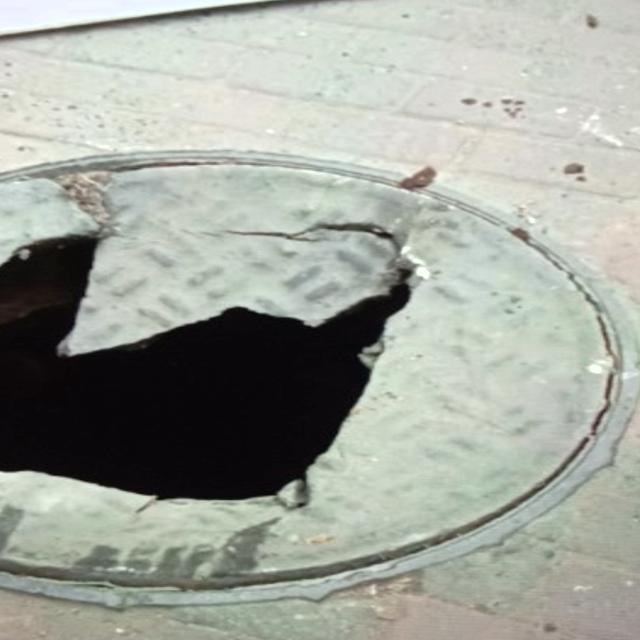broke: (0, 149, 640, 609)
